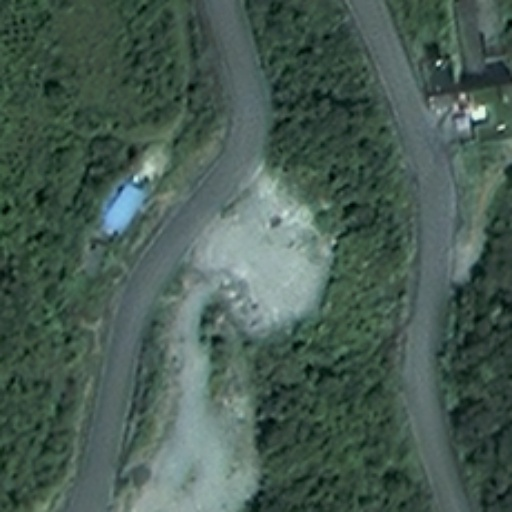landslide: (207, 182, 347, 334)
